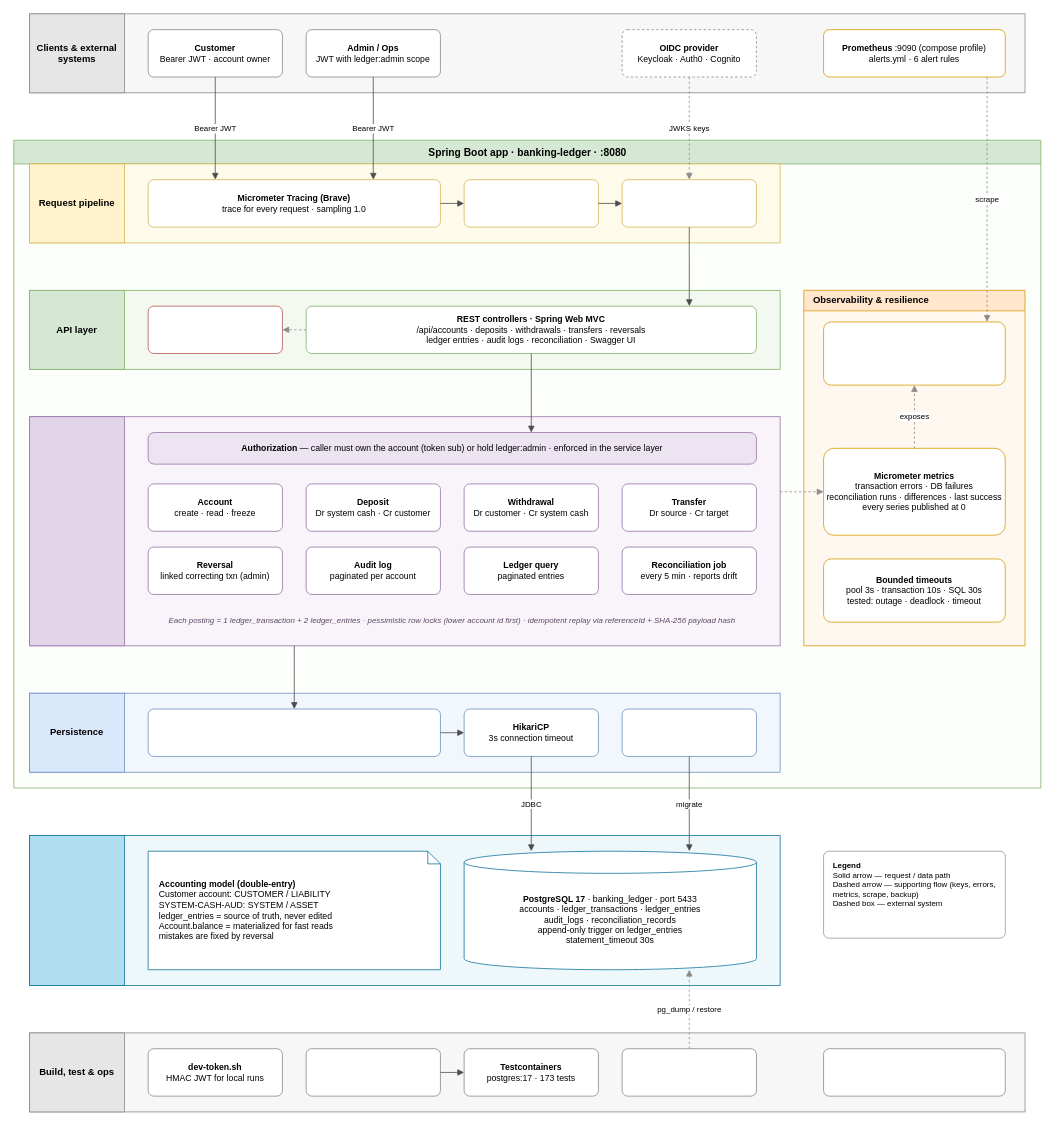
This 1055x1126 diagram has some shape labels left out. Here are the shapes that lost their labels. From the top down, the centre of each, then its label:
At (530,203): "TraceIdFilter X-Trace-Id header".
At (688,203): "Spring Security OAuth2 resource server · JWT".
At (214,329): "GlobalExceptionHandler JSON errors + traceId".
At (914,353): "Spring Boot Actuator /actuator/health (no token) /actuator/prometheus (no token)".
At (76,531): "Domain services @Transactional 10s timeout".
At (293,732): "Spring Data JPA / Hibernate repositories · ddl-auto=validate · open-in-view off".
At (688,732): "Flyway migrations V1–V8".
At (76,910): "Data store Postgres container".
At (372,1072): "GitHub Actions CI test → image build".
At (688,1072): "backup.sh / restore.sh verify → staging → swap".
At (914,1072): "k6 load tests ~700–800 req/s, write-bound".
